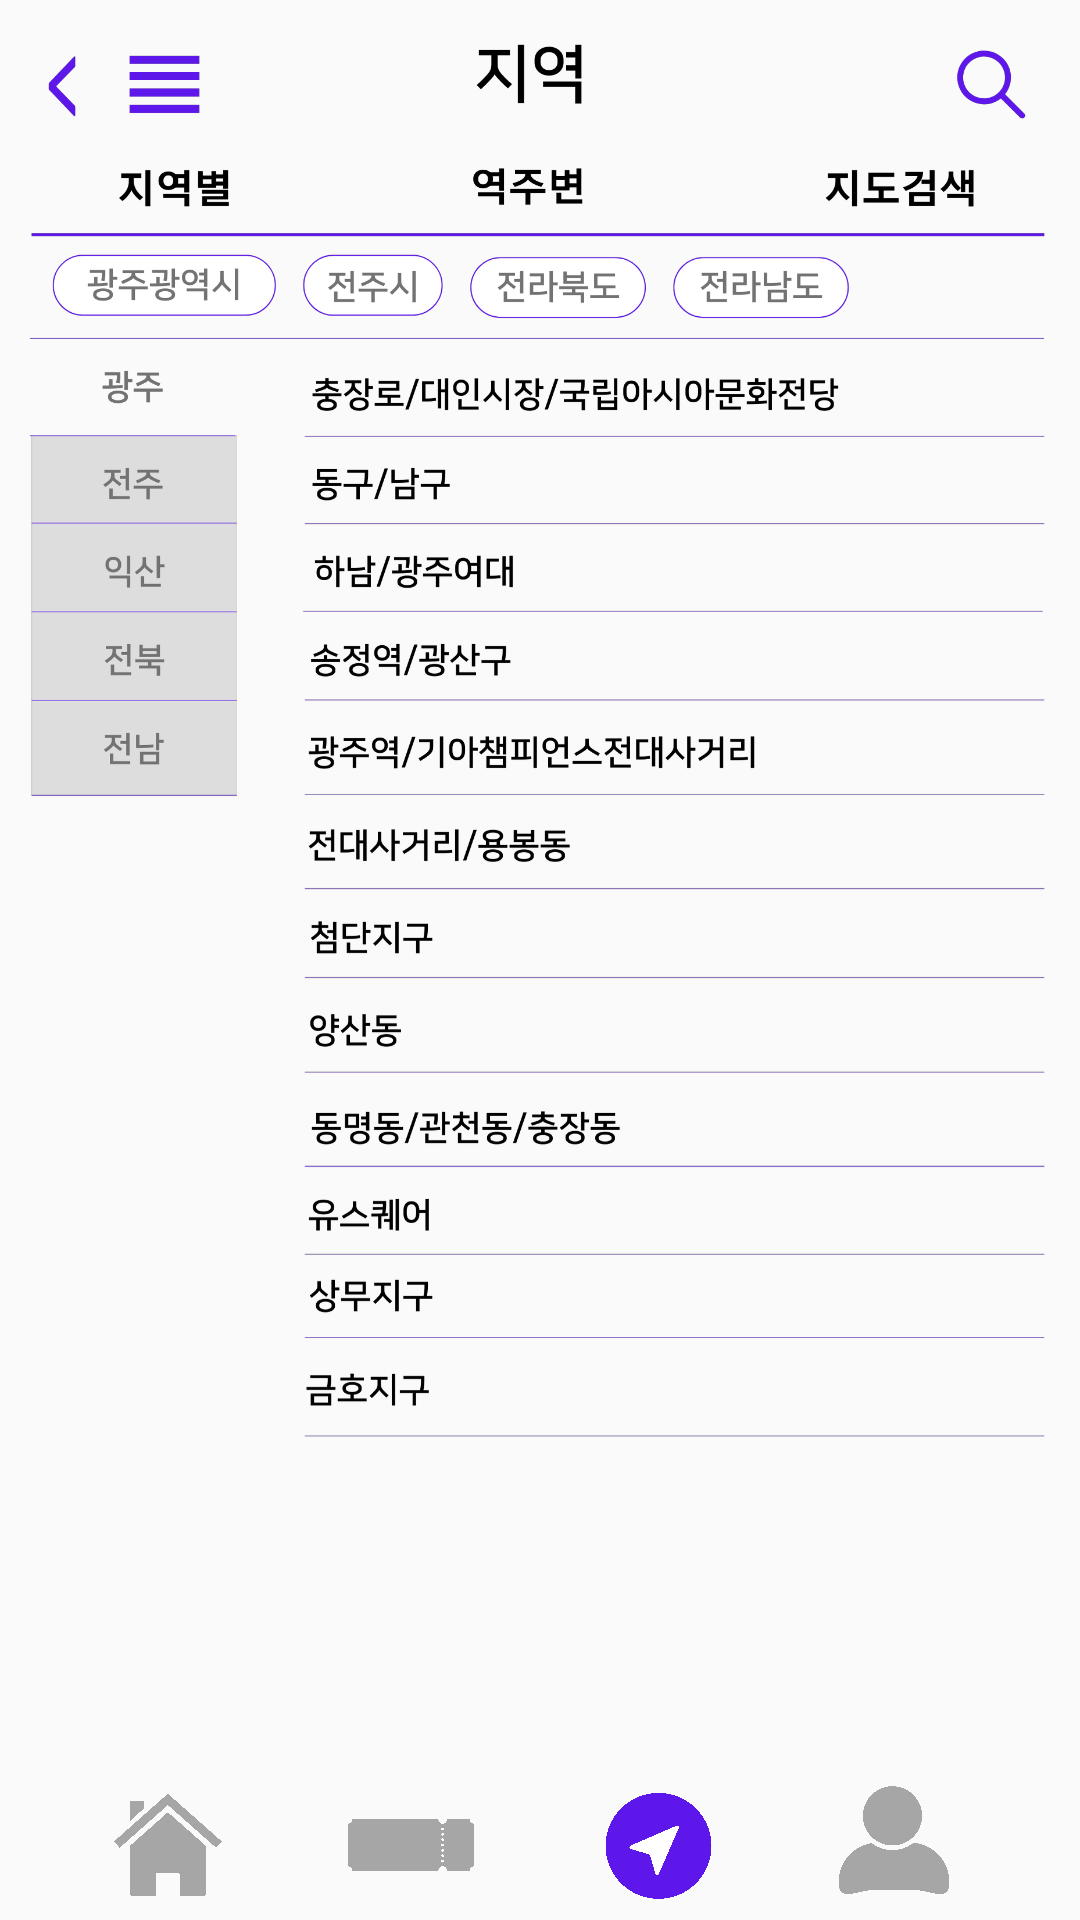

Point at icon controls on the screen. Image size 1080px x 1920px, points as (x=x, y=y).
home: (x=168, y=1845)
myinfo: (x=894, y=1840)
ticket: (x=411, y=1845)
